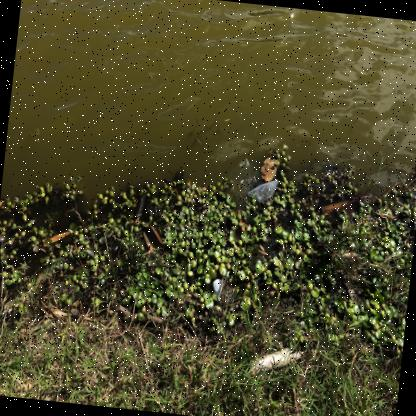Other plastic bottle: (212, 278, 222, 301)
Plastic film: (239, 158, 278, 202)
